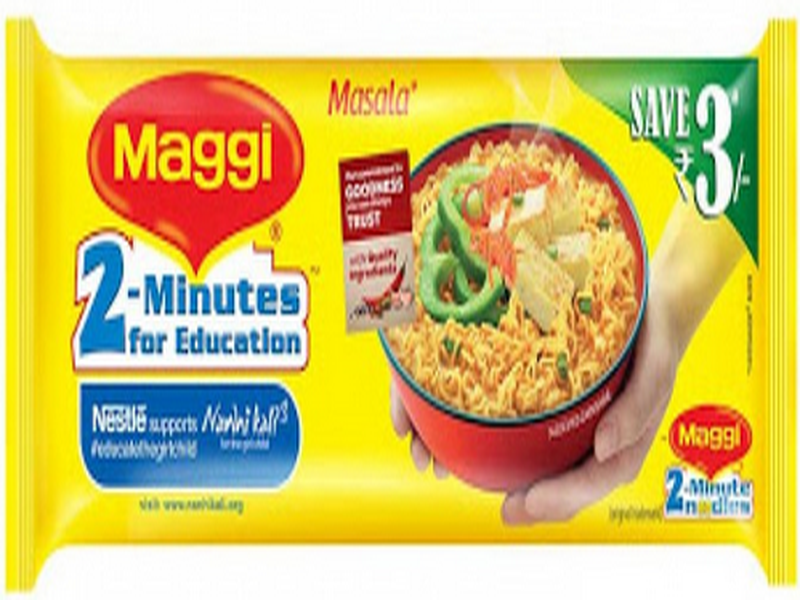maggi-family: (4, 20, 800, 580)
